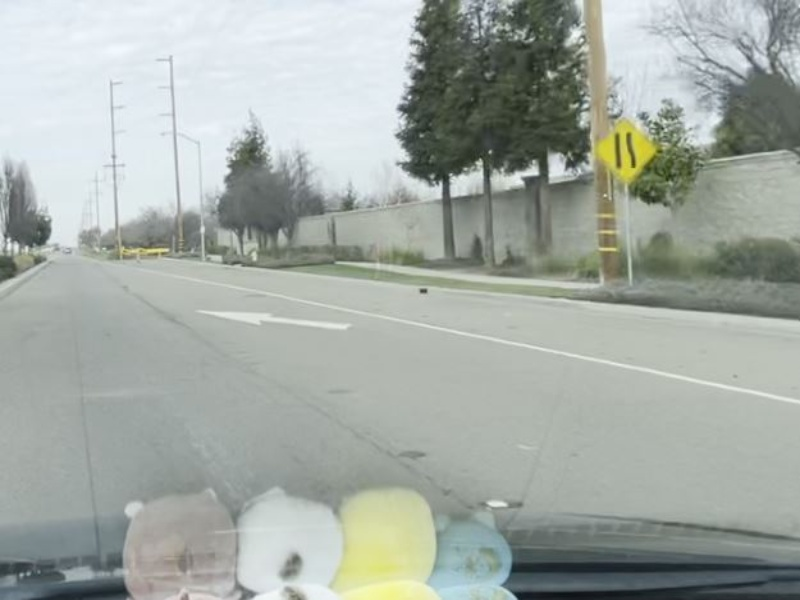merge sign: (592, 115, 658, 184)
